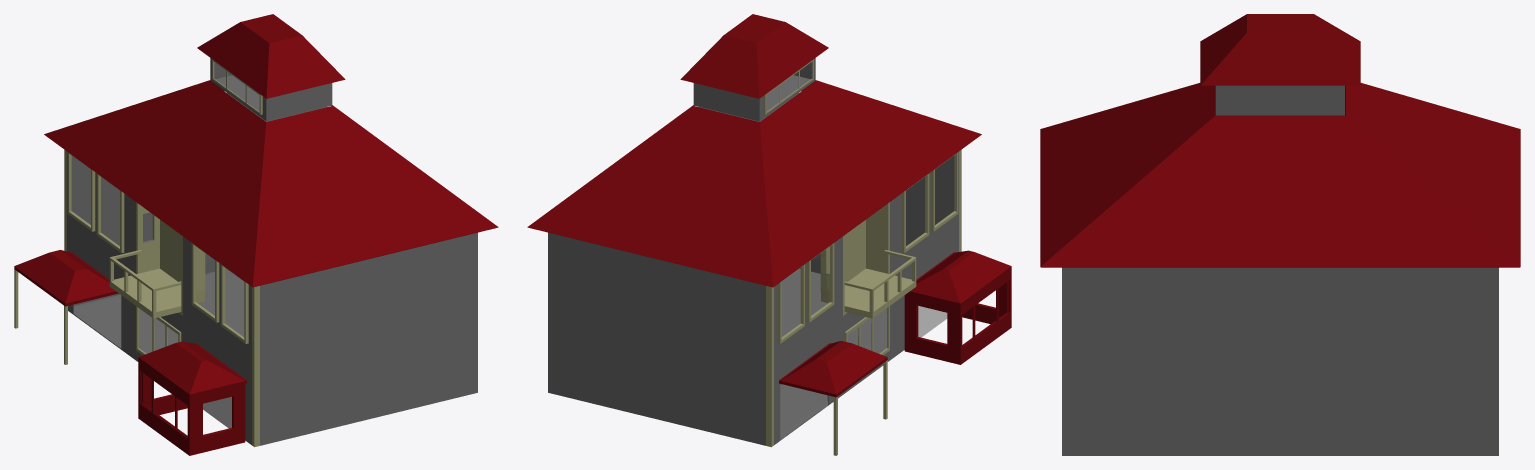
File: _ouse.fbx
3 views of the same model, side by side, from view 1: azimuth 30°, elevation 25°; view 2: azimuth 150°, elevation 25°; view 3: azimuth 270°, elevation 25° (orthographic). The views are drawn at different scales.
Visible parts, largest first — view 1: Cube, Cube.001, Cube.003, Cube.002; view 2: Cube, Cube.001, Cube.003, Cube.002; view 3: Cube, Cube.001, Cube.003, Cube.002.
Boxes of the visible parts, bbox=[...] form: Cube: bbox=[14, 93, 477, 455]; Cube.001: bbox=[44, 80, 498, 287]; Cube.003: bbox=[197, 14, 345, 98]; Cube.002: bbox=[210, 58, 332, 121]; Cube: bbox=[548, 93, 1011, 455]; Cube.001: bbox=[527, 80, 981, 287]; Cube.003: bbox=[680, 14, 828, 98]; Cube.002: bbox=[693, 58, 815, 121]; Cube: bbox=[1062, 267, 1498, 455]; Cube.001: bbox=[1040, 83, 1520, 267]; Cube.003: bbox=[1200, 14, 1360, 85]; Cube.002: bbox=[1216, 85, 1344, 115].
Size of the model in its own units: 5230 by 5500 by 6474.
